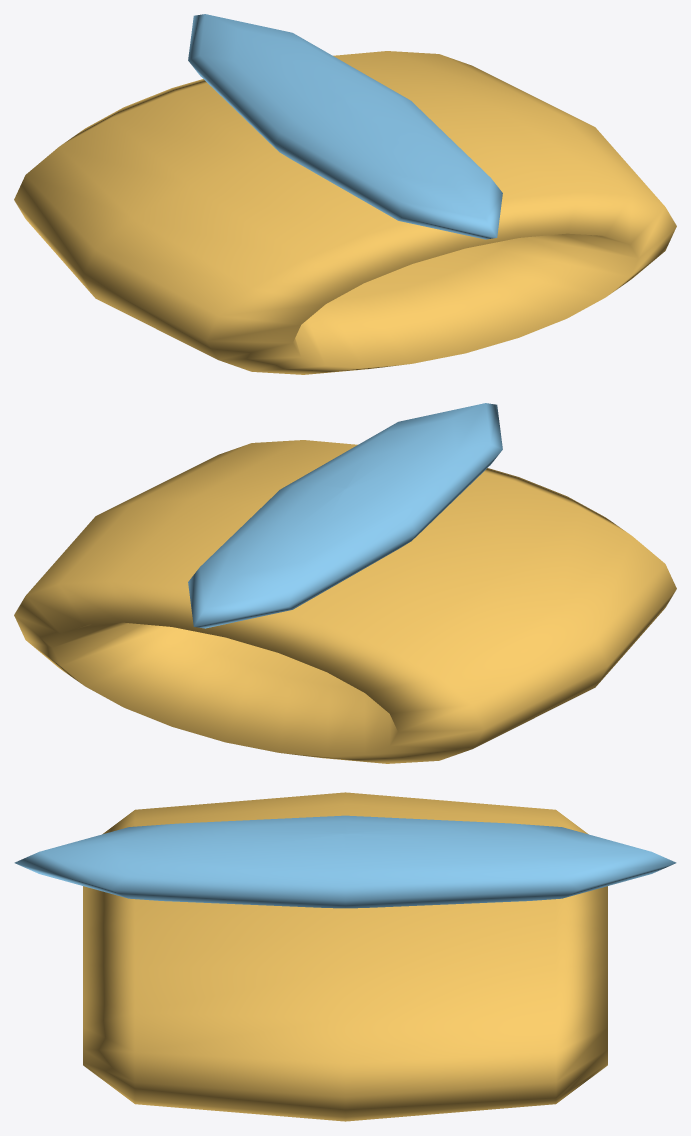
The model's file is wedding_ring.glb.
3 views of the same model, one above another, from view 1: azimuth 30°, elevation 25°; view 2: azimuth 150°, elevation 25°; view 3: azimuth 270°, elevation 25° (orthographic). The views are drawn at different scales.
Parts seen in each view (by area): view 1: model; view 2: model; view 3: model.
Part boxes in pixels (left/top/right/bottom): model: left=14, top=14, right=676, bottom=374; model: left=14, top=403, right=676, bottom=763; model: left=14, top=792, right=676, bottom=1121.
Bounding box in the file's own units: 0.2 × 0.07 × 0.2.
